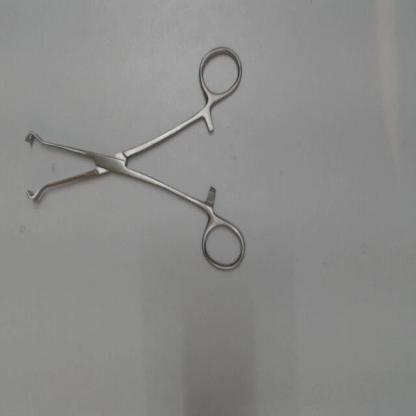Babcock Tissue Forceps: (18, 41, 254, 280)
